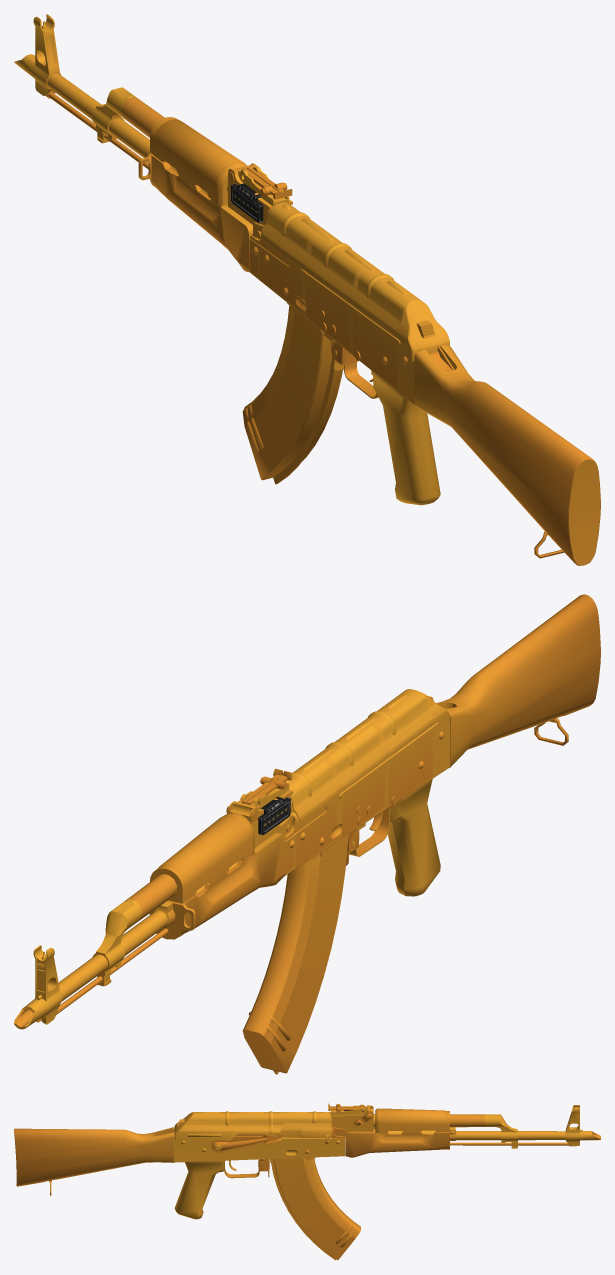
The model's file is akr.glb.
3 renders of one model, top to bottom at view 1: azimuth 30°, elevation 25°; view 2: azimuth 150°, elevation 25°; view 3: azimuth 270°, elevation 25°, orthographic. The views are drawn at different scales.
Parts seen in each view (by area): view 1: LOD_Template, Magazine1, Sticker4, Sticker3, Sticker2, Sticker1, StatTrack.001; view 2: LOD_Template, Magazine1, Sticker4, Sticker3, Sticker2, Sticker1, StatTrack.001; view 3: LOD_Template, Magazine1, Gunlock1.
Part boxes in pixels (x1,y1,x2,y2): LOD_Template: (14,14,600,565); Magazine1: (242,303,342,484); Sticker4: (350,273,406,387); Sticker3: (304,236,361,348); Sticker2: (260,205,312,309); Sticker1: (219,180,263,275); StatTrack.001: (231,183,263,222); LOD_Template: (14,594,600,1029); Magazine1: (242,816,349,1074); Sticker4: (379,693,435,807); Sticker3: (329,726,386,837); Sticker2: (289,761,338,867); Sticker1: (251,817,294,890); StatTrack.001: (258,796,290,835); LOD_Template: (14,1103,600,1219); Magazine1: (270,1157,360,1260); Gunlock1: (280,1122,331,1142).
Bounding box in the file's own units: 0.0596 × 0.2686 × 0.9241.
6 materials, 6 textured.
